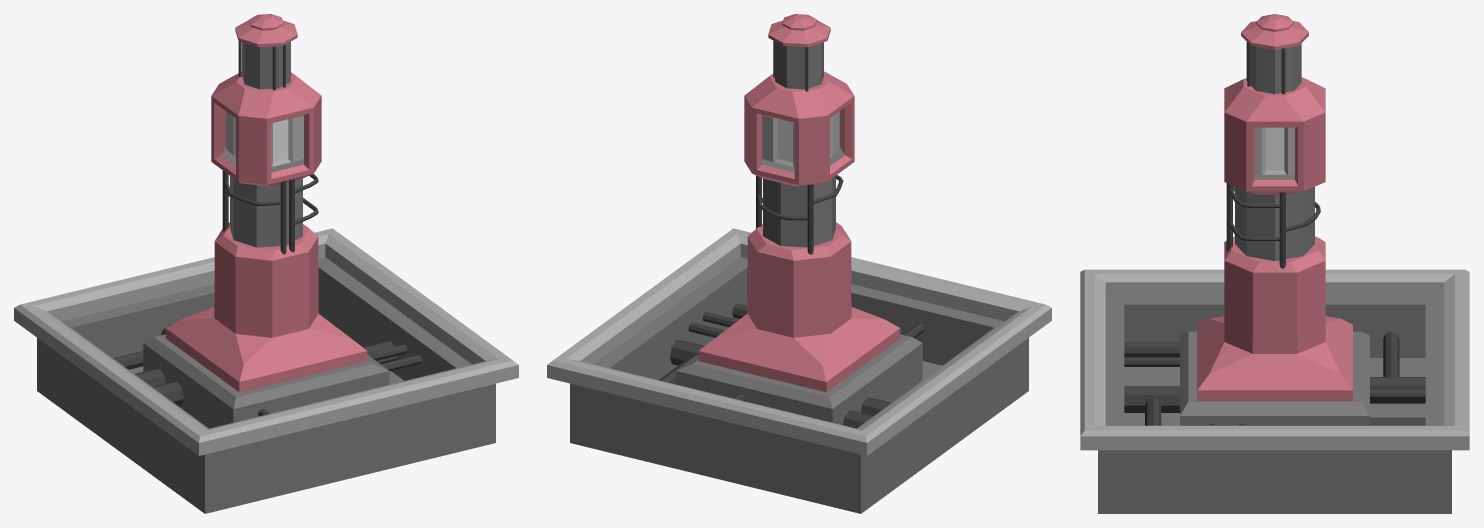
The model's file is Frame 2.fbx.
3 views of the same model, side by side, from view 1: azimuth 30°, elevation 25°; view 2: azimuth 150°, elevation 25°; view 3: azimuth 270°, elevation 25° (orthographic). The views are drawn at different scales.
Visible parts, largest first — view 1: Cube; view 2: Cube; view 3: Cube.
Boxes of the visible parts, x1,y1,x2,y2 form: Cube: (14, 14, 518, 513); Cube: (547, 14, 1051, 513); Cube: (1080, 14, 1469, 513).
Size of the model in its own units: 198 by 236 by 198.
